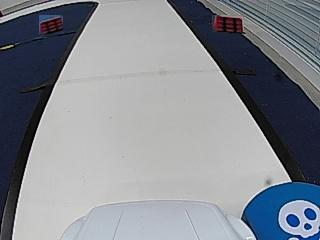danger: (276, 199, 318, 239)
